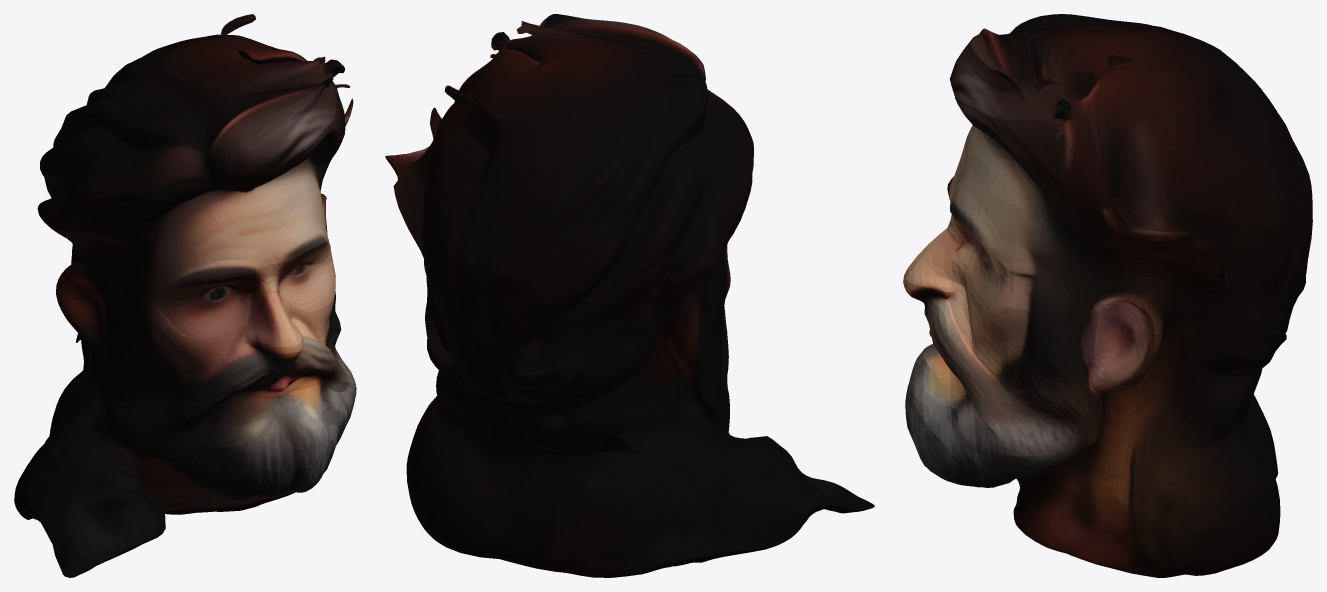
The model's file is teacher-male.glb.
3 renders of one model, left to right at view 1: azimuth 30°, elevation 25°; view 2: azimuth 150°, elevation 25°; view 3: azimuth 270°, elevation 25°, orthographic. The views are drawn at different scales.
Visible parts, largest first — view 1: world; view 2: world; view 3: world.
Boxes of the visible parts, x1,y1,x2,y2 form: world: (14, 14, 356, 577); world: (385, 14, 874, 577); world: (903, 14, 1312, 577).
Size of the model in its own units: 0.894 by 0.9969 by 0.764.
1 material, 1 textured.
